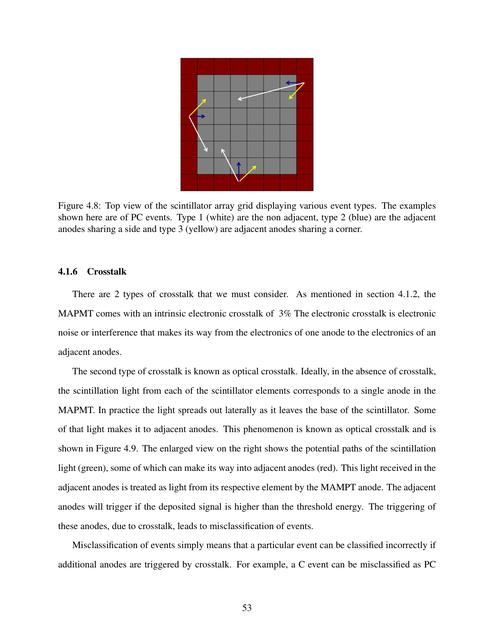box: (178, 55, 317, 193)
